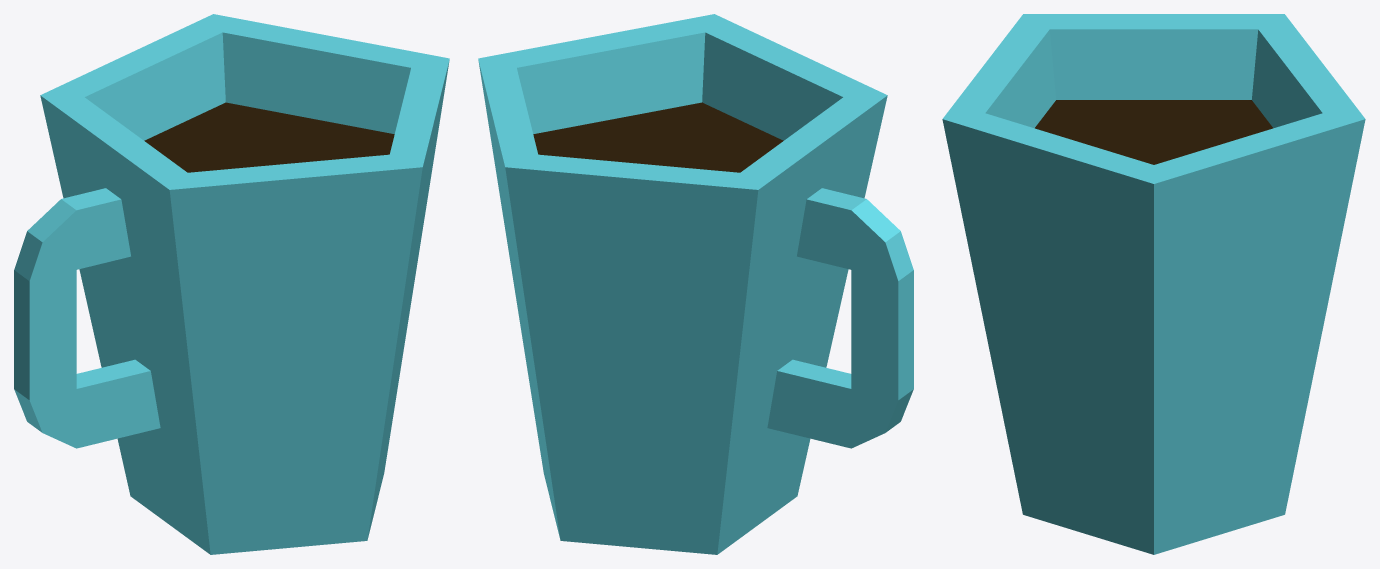
The model's file is cup_full_handle_3.fbx.
The picture shows the model from 3 angles, left to right: view 1: azimuth 30°, elevation 25°; view 2: azimuth 150°, elevation 25°; view 3: azimuth 270°, elevation 25°; orthographic projection.
Parts seen in each view (by area): view 1: cup_full_handle_3; view 2: cup_full_handle_3; view 3: cup_full_handle_3.
Part boxes in pixels (x1,y1,x2,y2): cup_full_handle_3: [14, 14, 449, 554]; cup_full_handle_3: [478, 14, 913, 554]; cup_full_handle_3: [942, 14, 1365, 554].
Size of the model in its own units: 0.7502 by 0.6685 by 0.6358.
